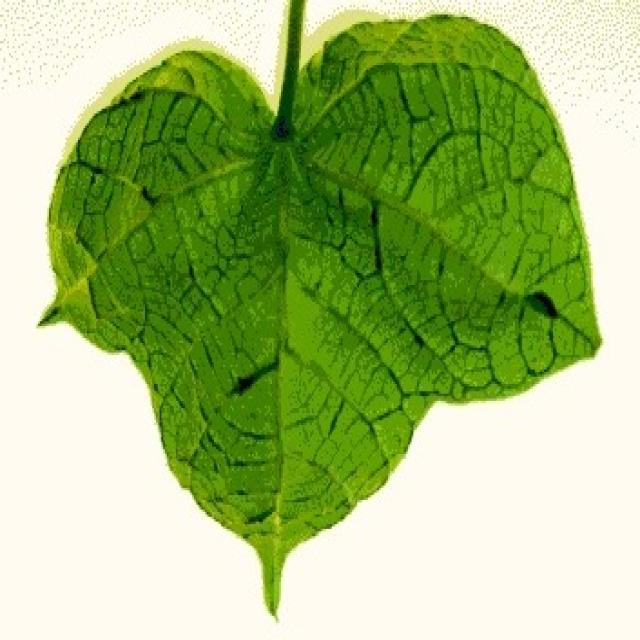Leaf Curl Virus: (135, 82, 467, 376)
